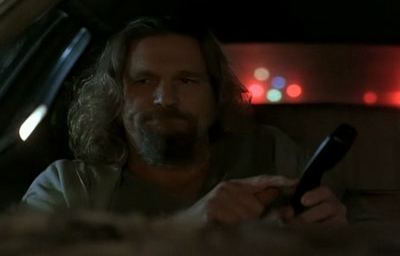cu: (1, 1, 400, 256)
face: (122, 46, 211, 169)
person: (20, 11, 352, 226)
